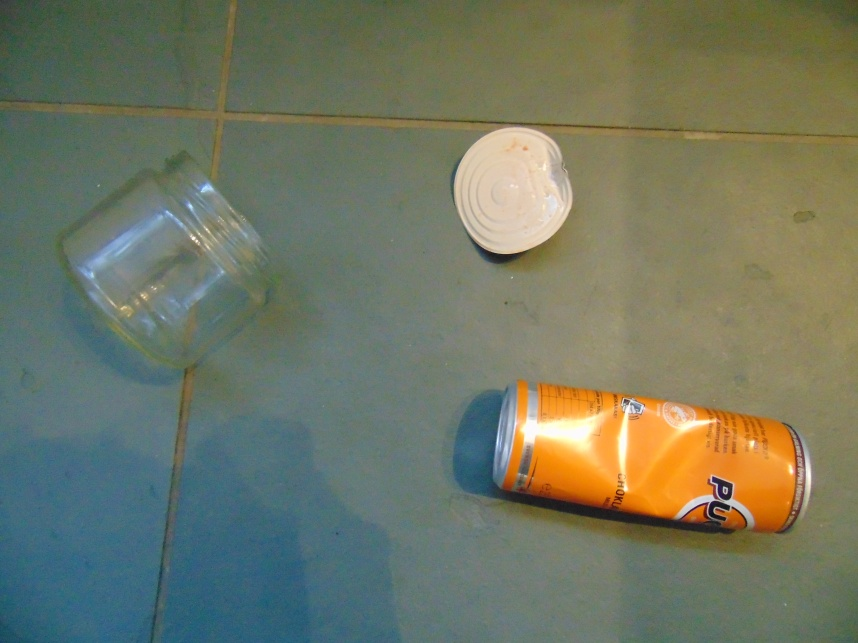glass_bottle: (57, 149, 284, 378)
metal: (451, 126, 574, 255)
metal_can: (495, 378, 812, 539)
